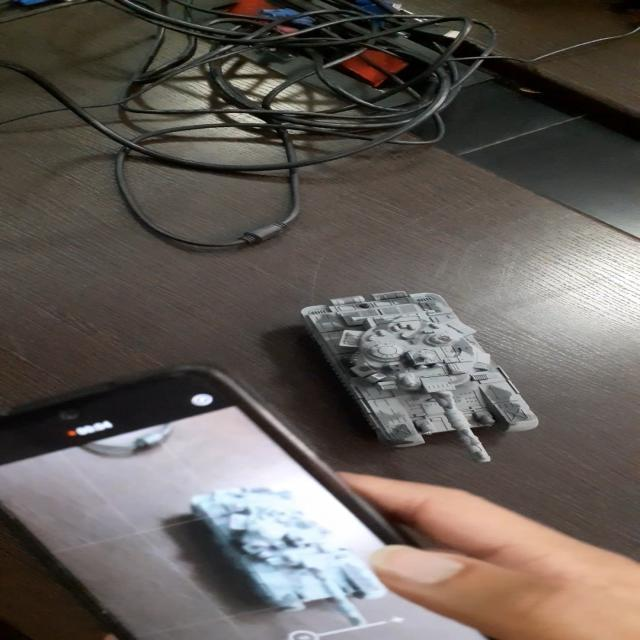Tanks: (300, 290, 544, 464)
